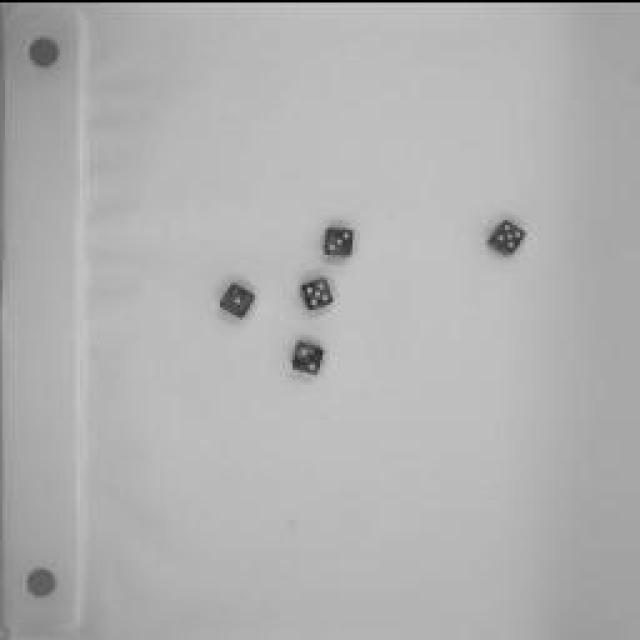dice_1: (215, 279, 257, 321)
dice_2: (288, 338, 328, 378), (320, 220, 358, 260)
dice_5: (485, 215, 527, 255), (298, 274, 338, 314)
